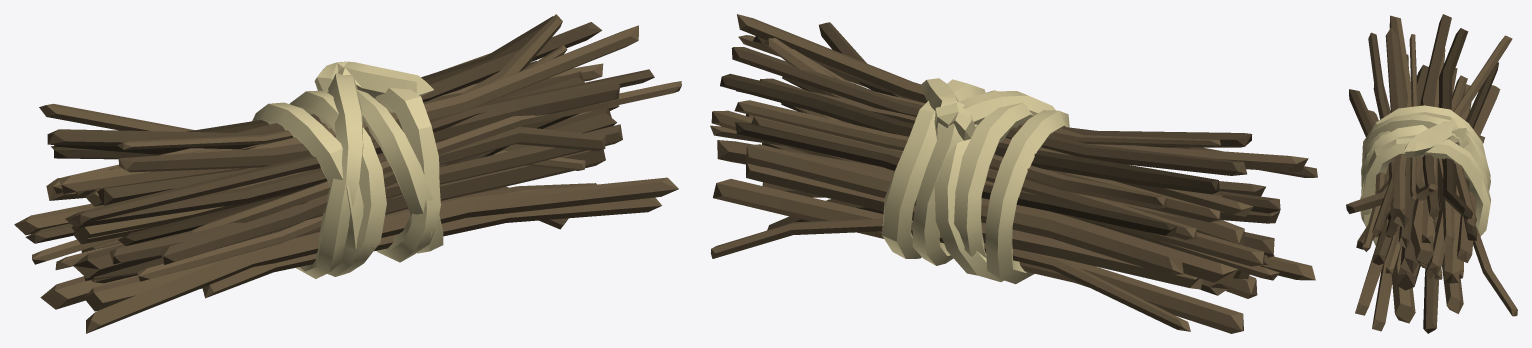
File: EA03_Prop_Brushwood_03a.glb
3 views of the same model, side by side, from view 1: azimuth 30°, elevation 25°; view 2: azimuth 150°, elevation 25°; view 3: azimuth 270°, elevation 25° (orthographic). The views are drawn at different scales.
Visible parts, largest first — view 1: EA03_Prop_Brushwood_03a; view 2: EA03_Prop_Brushwood_03a; view 3: EA03_Prop_Brushwood_03a.
Part boxes in pixels (x1,y1,x2,y2): EA03_Prop_Brushwood_03a: [14, 14, 681, 333]; EA03_Prop_Brushwood_03a: [710, 14, 1317, 333]; EA03_Prop_Brushwood_03a: [1346, 14, 1517, 333].
Size of the model in its own units: 1.72 by 0.5751 by 0.597.
1 material, 1 textured.
